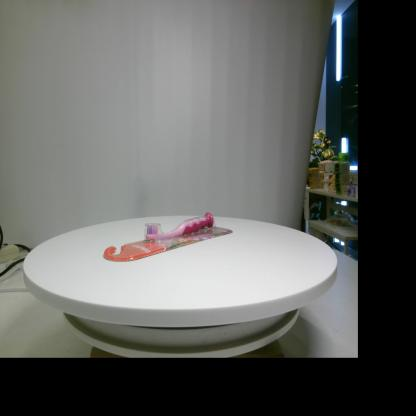Personal Hygiene: (103, 212, 233, 262)
